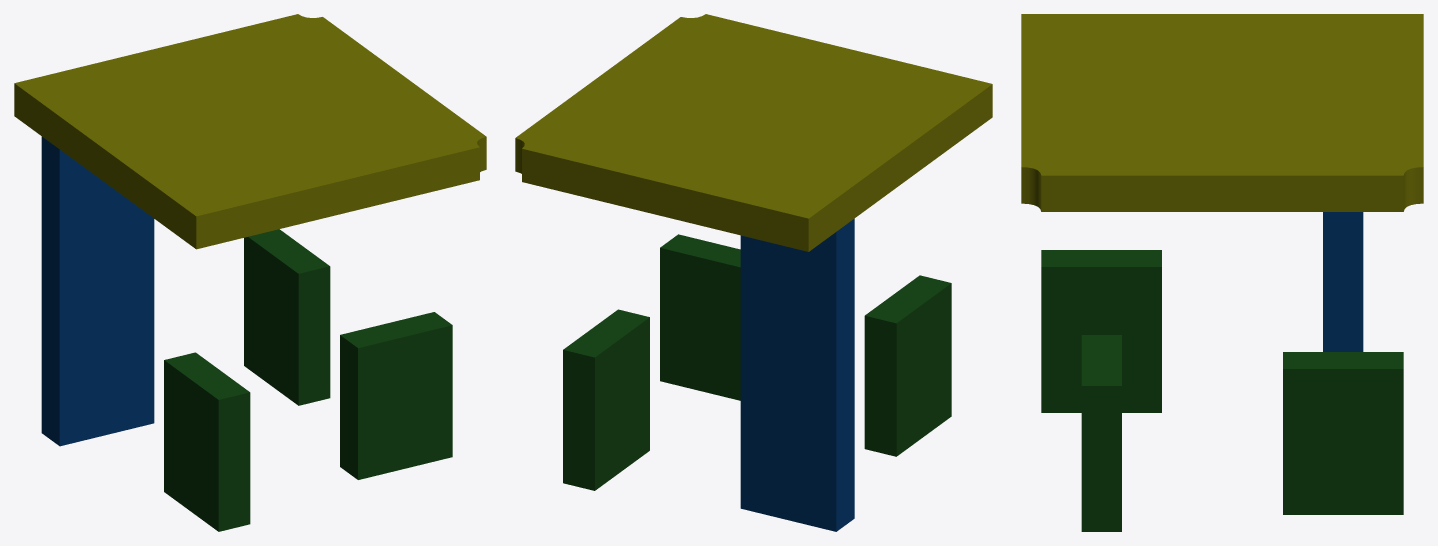
The model's file is T10DirR.fbx.
3 views of the same model, side by side, from view 1: azimuth 30°, elevation 25°; view 2: azimuth 150°, elevation 25°; view 3: azimuth 270°, elevation 25° (orthographic). The views are drawn at different scales.
Visible parts, largest first — view 1: 4, 1, 3, 2; view 2: 4, 2, 3, 1; view 3: 2, 3, 1, 4.
Boxes of the visible parts, x1,y1,x2,y2 form: 4: [14, 46, 254, 446]; 1: [255, 77, 486, 479]; 3: [105, 113, 345, 531]; 2: [164, 14, 404, 405]; 4: [657, 114, 900, 531]; 2: [515, 77, 748, 490]; 3: [750, 47, 992, 456]; 1: [598, 14, 840, 400]; 2: [1222, 94, 1423, 514]; 3: [1021, 14, 1222, 412]; 1: [1021, 94, 1222, 531]; 4: [1222, 14, 1423, 351].
Size of the model in its own units: 190 by 200 by 200.
